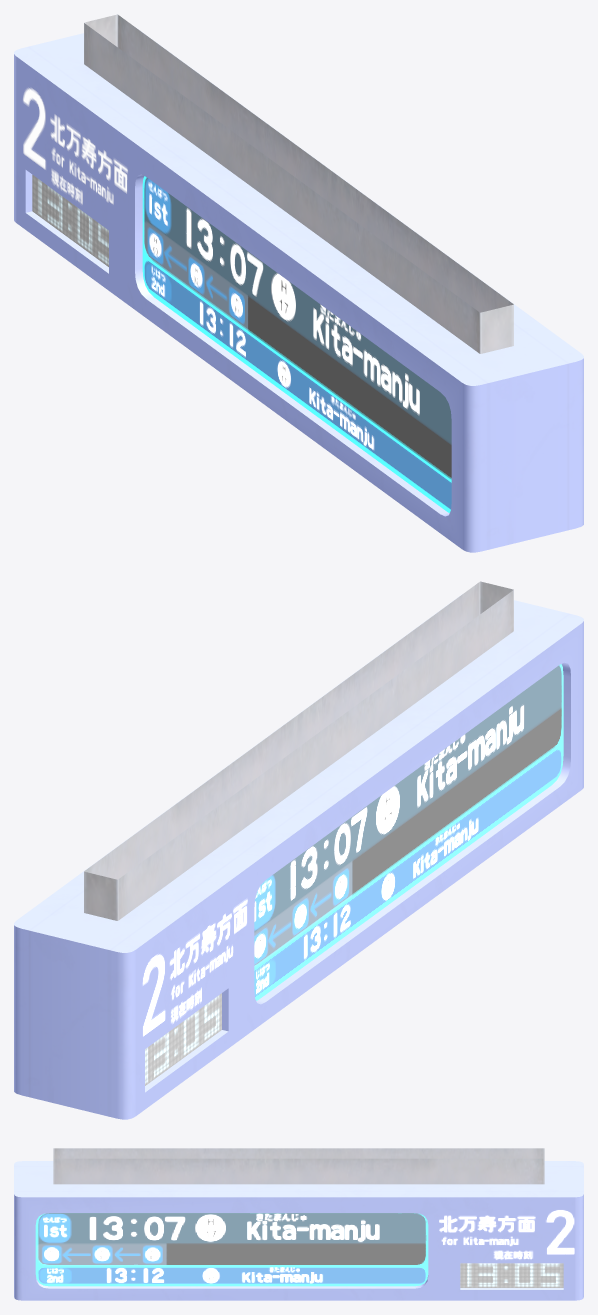
File: SM_Metro_Sign_Time_01.fbx
3 views of the same model, one above another, from view 1: azimuth 30°, elevation 25°; view 2: azimuth 150°, elevation 25°; view 3: azimuth 270°, elevation 25° (orthographic). The views are drawn at different scales.
Parts seen in each view (by area): view 1: SM_Metro_Sign_Time_01_LOD0; view 2: SM_Metro_Sign_Time_01_LOD0; view 3: SM_Metro_Sign_Time_01_LOD0.
Boxes of the visible parts, x1=… form: SM_Metro_Sign_Time_01_LOD0: x1=14, y1=14, x2=583, y2=552; SM_Metro_Sign_Time_01_LOD0: x1=14, y1=581, x2=583, y2=1119; SM_Metro_Sign_Time_01_LOD0: x1=14, y1=1148, x2=583, y2=1300.
Bounding box in the file's own units: 30 × 200 × 50.35.
